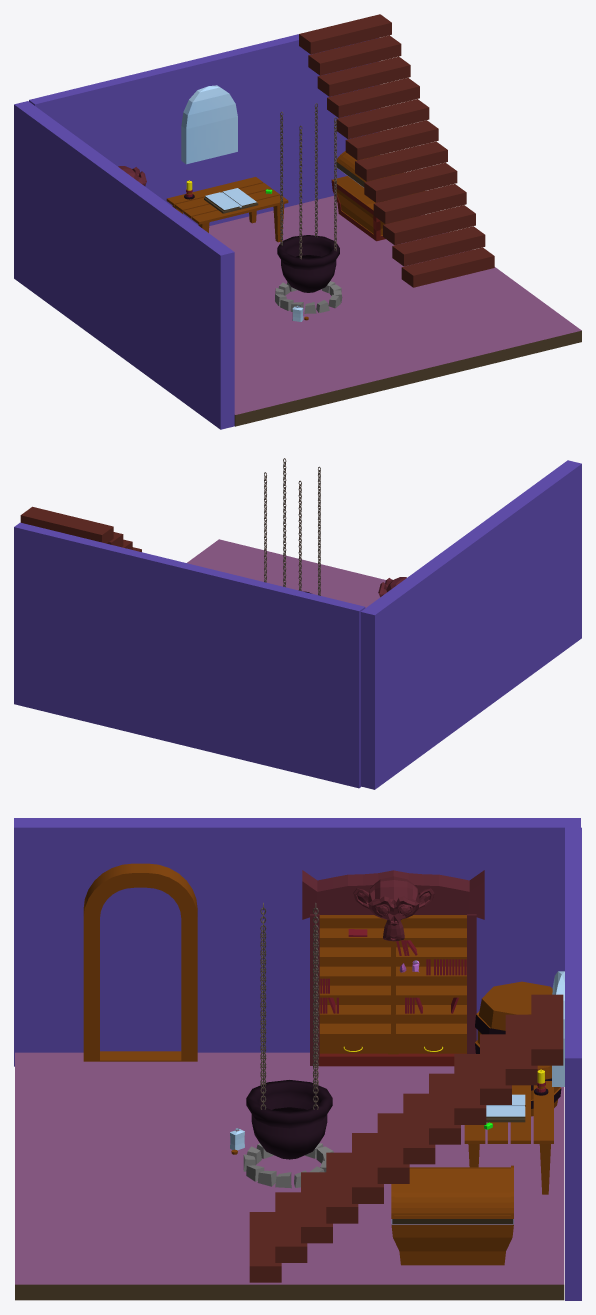
File: WitchesHouse.fbx
3 views of the same model, one above another, from view 1: azimuth 30°, elevation 25°; view 2: azimuth 150°, elevation 25°; view 3: azimuth 270°, elevation 25° (orthographic). The views are drawn at different scales.
Parts seen in each view (by area): view 1: Floor, Cube.039, Cube.037, Cube.001, Cube.030, Sphere, Cube.003, Cube.038, Torus.002, Cube.005; view 2: Cube.037, Cube.039, Floor, Cube.001, Torus.002; view 3: Floor, Cube.039, Cube.001, Bookcase, Arch, Cube, Cube.037, Cube.027, Cube.006, Sphere, Cube.038, Cube.003 (+8 smaller).
Boxes of the visible parts, left/top/right/bottom form: Floor: left=209, top=196, right=581, bottom=426; Cube.039: left=14, top=101, right=234, bottom=429; Cube.037: left=29, top=34, right=378, bottom=225; Cube.001: left=299, top=14, right=494, bottom=287; Cube.030: left=181, top=85, right=237, bottom=164; Sphere: left=277, top=235, right=339, bottom=292; Cube.003: left=166, top=177, right=288, bottom=224; Cube.038: left=331, top=176, right=415, bottom=241; Torus.002: left=280, top=103, right=336, bottom=259; Cube.005: left=275, top=281, right=342, bottom=313; Cube.037: left=14, top=522, right=365, bottom=788; Cube.039: left=360, top=460, right=581, bottom=789; Floor: left=187, top=539, right=385, bottom=607; Cube.001: left=20, top=506, right=141, bottom=551; Torus.002: left=264, top=458, right=320, bottom=595; Floor: left=15, top=1052, right=564, bottom=1300; Cube.039: left=14, top=818, right=580, bottom=1066; Cube.001: left=249, top=994, right=563, bottom=1282; Bookcase: left=319, top=915, right=466, bottom=1054; Arch: left=83, top=863, right=197, bottom=1061; Cube: left=319, top=928, right=466, bottom=1016; Cube.037: left=565, top=827, right=581, bottom=1300; Cube.027: left=302, top=870, right=484, bottom=941; Cube.006: left=391, top=1165, right=513, bottom=1224; Sphere: left=246, top=1080, right=332, bottom=1159; Cube.038: left=391, top=1224, right=513, bottom=1265; Cube.003: left=464, top=1081, right=553, bottom=1143.
Size of the model in its own units: 1514 by 792 by 1500.
Materials: 3 (3 with a texture image).
